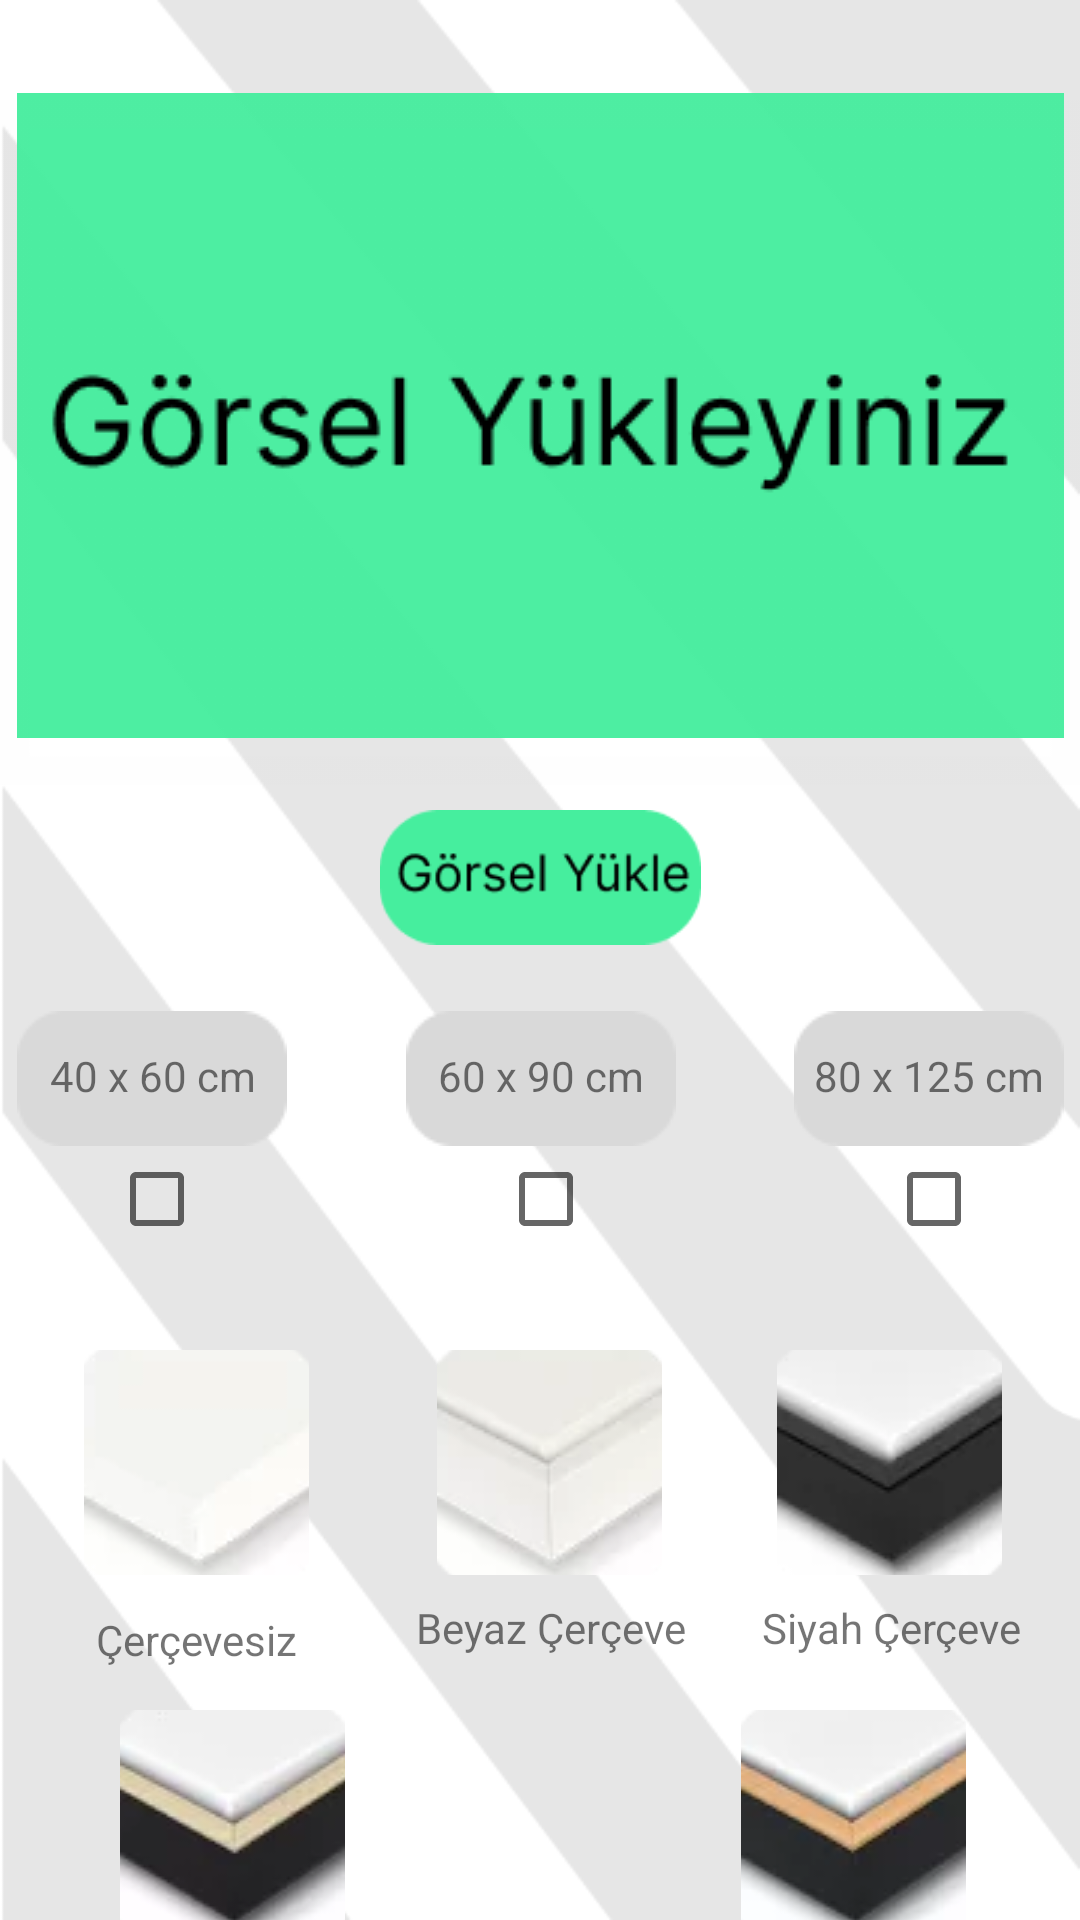

Locate icon controls on the screen. Image size 1080 × 1920, boxes as bbox=[x1, y1, x2, y2].
altincerceve: bbox=[741, 1710, 966, 1920]
